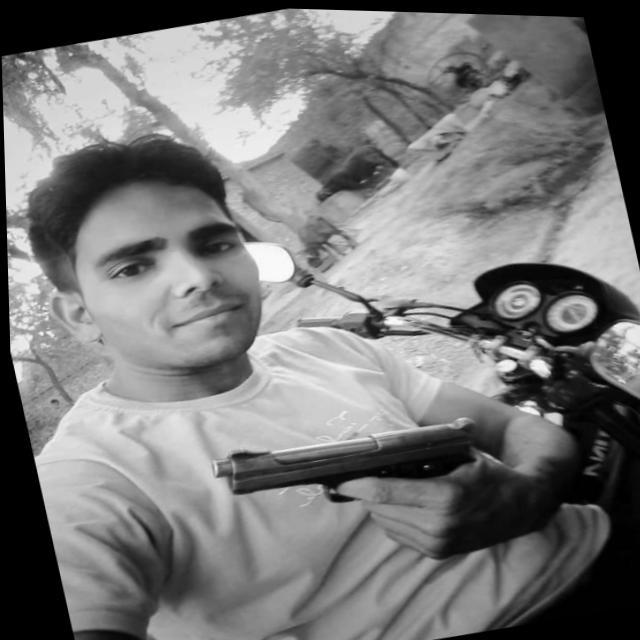weapon: (196, 394, 510, 601)
